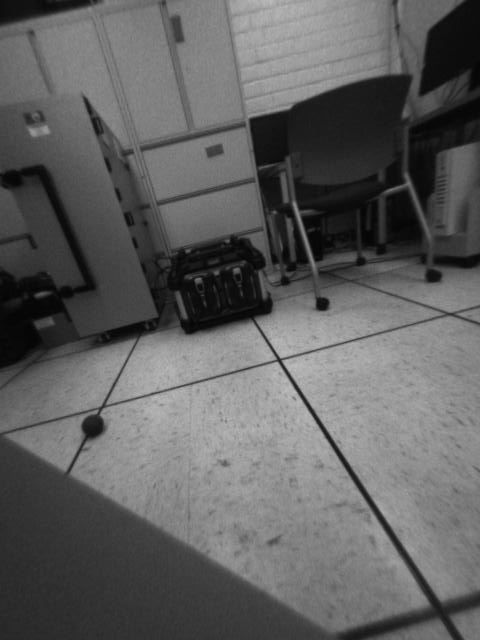dogtoy: (72, 406, 117, 448)
